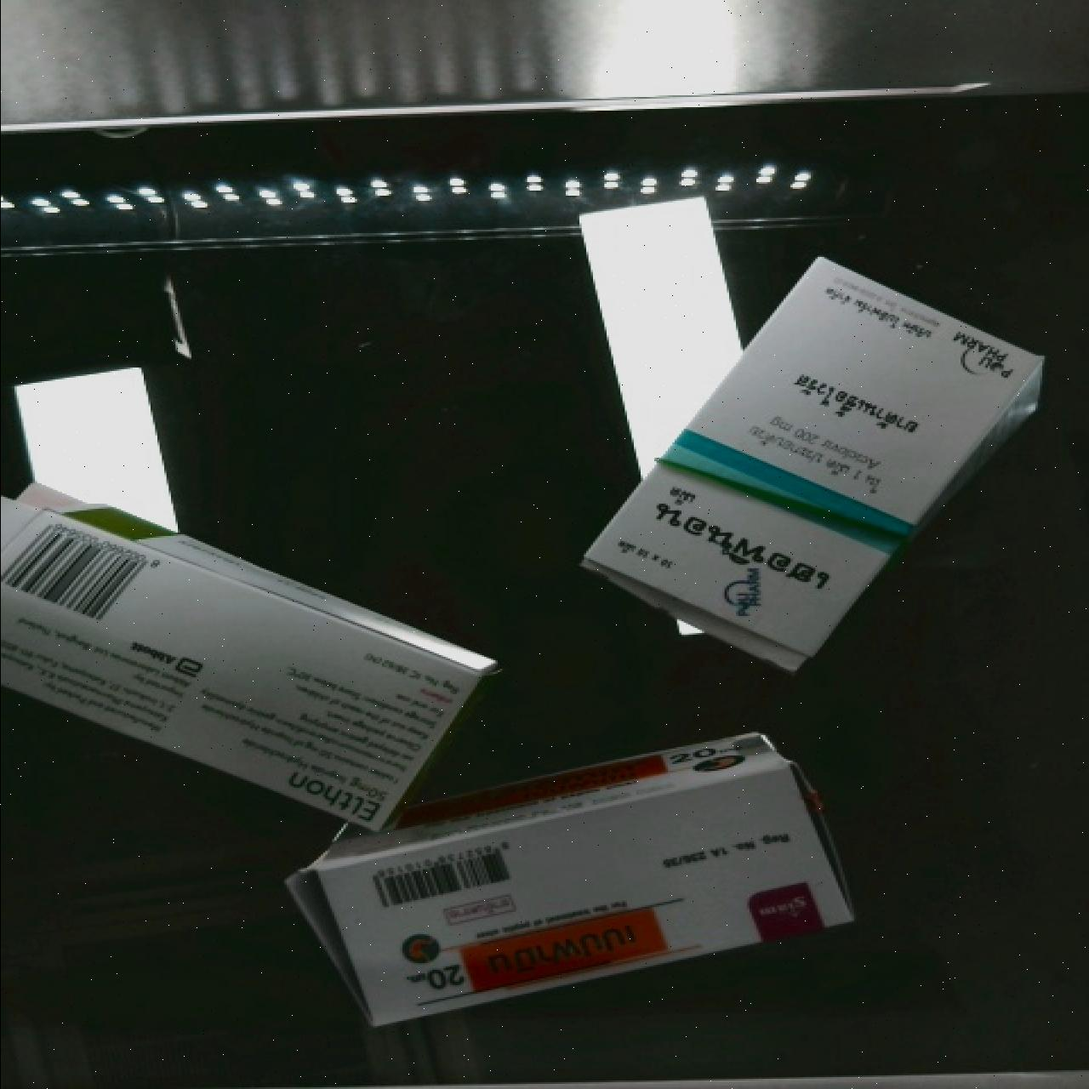medicine_label_obb: (615, 466, 874, 630), (381, 901, 670, 1015), (264, 751, 399, 832)
